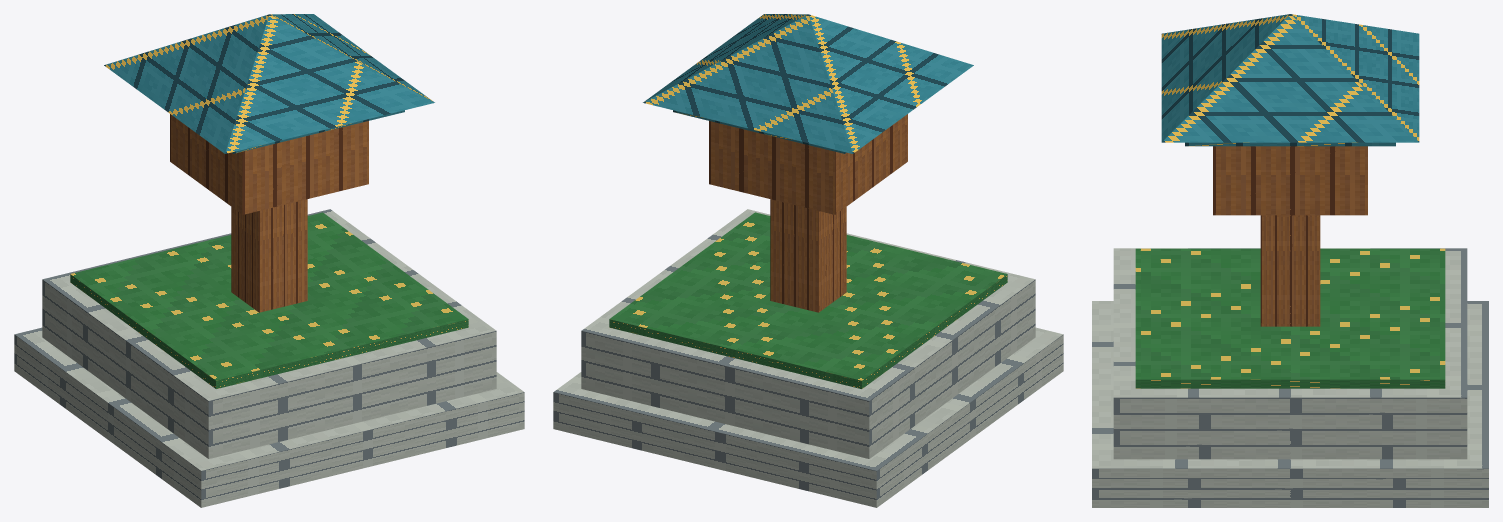
The model's file is garden-prop.glb.
3 renders of one model, left to right at view 1: azimuth 30°, elevation 25°; view 2: azimuth 150°, elevation 25°; view 3: azimuth 270°, elevation 25°, orthographic. The views are drawn at different scales.
Visible parts, largest first — view 1: Garden shrine stone and carved wood; view 2: Garden shrine stone and carved wood; view 3: Garden shrine stone and carved wood.
Part boxes in pixels (x1,y1,x2,y2): Garden shrine stone and carved wood: (14, 14, 524, 507); Garden shrine stone and carved wood: (553, 14, 1063, 507); Garden shrine stone and carved wood: (1092, 14, 1488, 507).
Size of the model in its own units: 3.2 by 3.65 by 3.2.
Materials: 2 (2 with a texture image).
